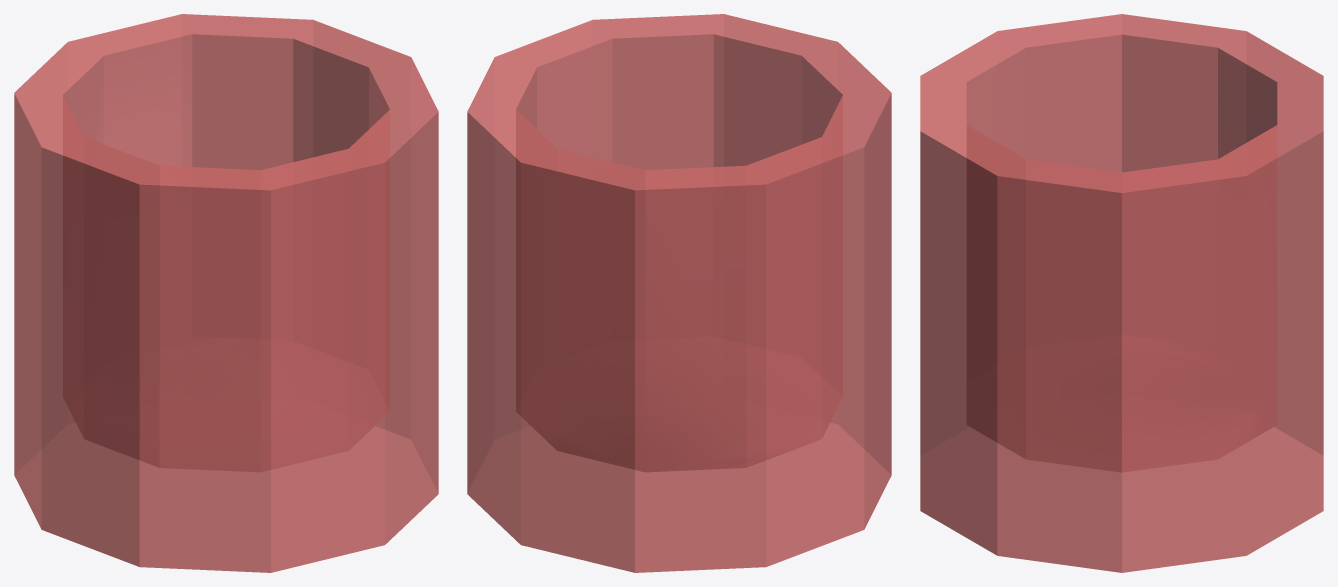
Rendered from Copo vermelho1.fbx.
The picture shows the model from 3 angles, left to right: view 1: azimuth 30°, elevation 25°; view 2: azimuth 150°, elevation 25°; view 3: azimuth 270°, elevation 25°; orthographic projection.
Parts seen in each view (by area): view 1: pCylinder1; view 2: pCylinder1; view 3: pCylinder1.
Part boxes in pixels (x1,y1,x2,y2): pCylinder1: (14,14,438,572); pCylinder1: (467,14,891,572); pCylinder1: (920,14,1323,572).
Bounding box in the file's own units: 2 × 1.98 × 1.9.
